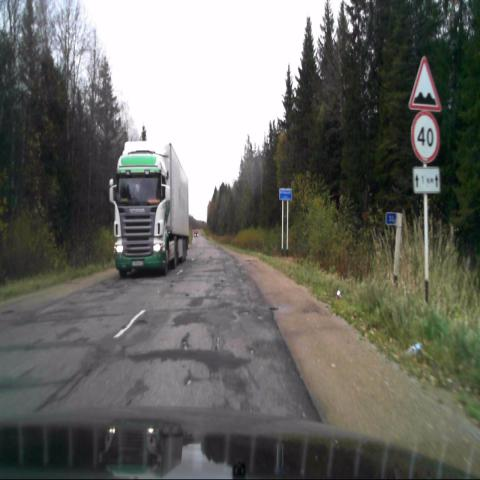1_16: (408, 55, 441, 112)
8_2_1: (412, 167, 440, 193)
